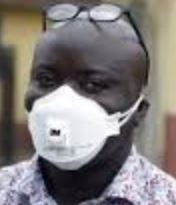with_facemask: (20, 87, 119, 173)
